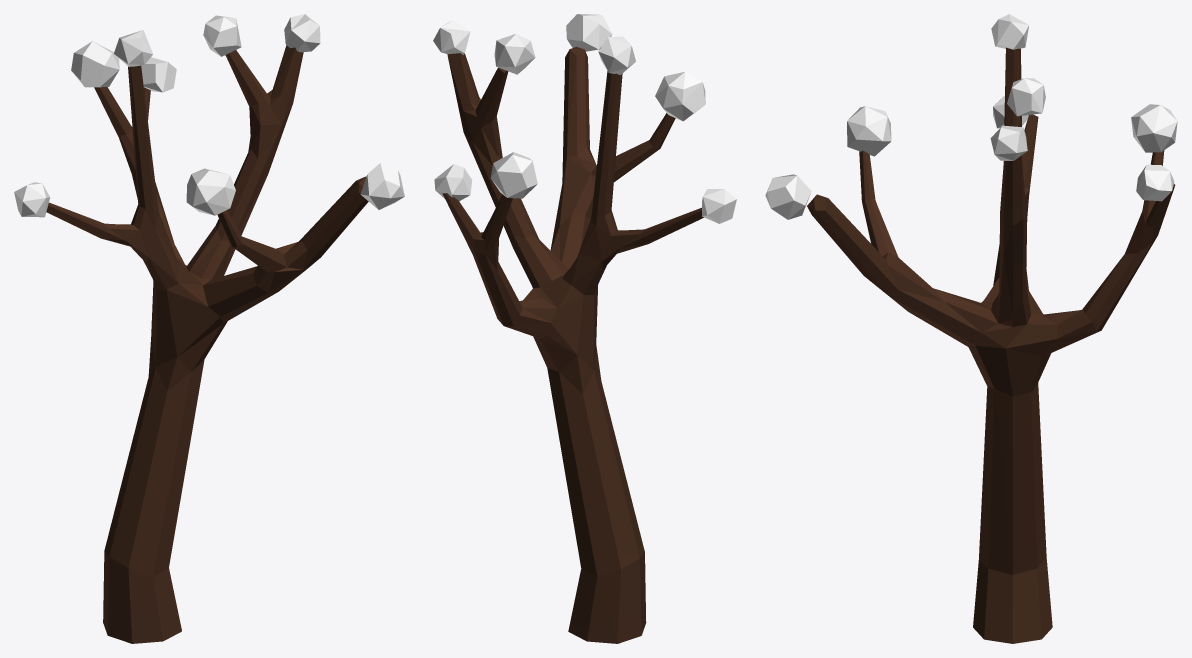
File: 2Stad.fbx
The picture shows the model from 3 angles, left to right: view 1: azimuth 30°, elevation 25°; view 2: azimuth 150°, elevation 25°; view 3: azimuth 270°, elevation 25°; orthographic projection. The views are drawn at different scales.
Visible parts, largest first — view 1: Cube.015; view 2: Cube.015; view 3: Cube.015.
Part boxes in pixels (left/top/right/bottom): Cube.015: left=14, top=14, right=404, bottom=643; Cube.015: left=433, top=14, right=736, bottom=643; Cube.015: left=765, top=14, right=1177, bottom=643.
Size of the model in its own units: 59.88 by 114 by 70.33.
